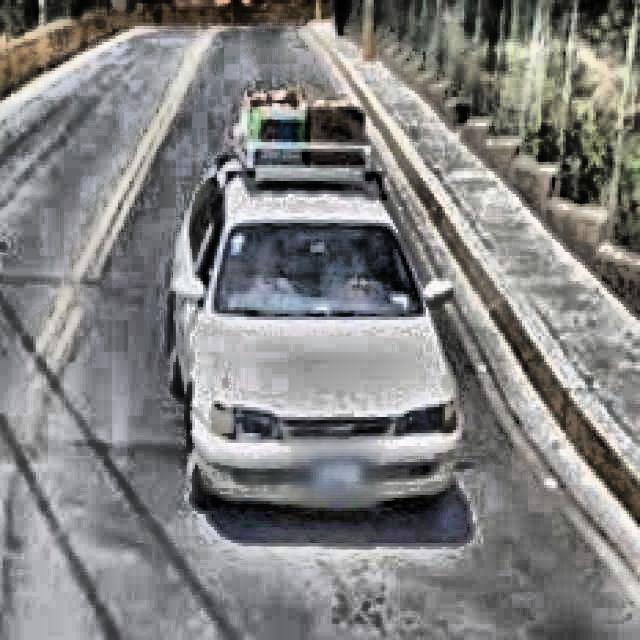carro: (172, 124, 462, 540)
